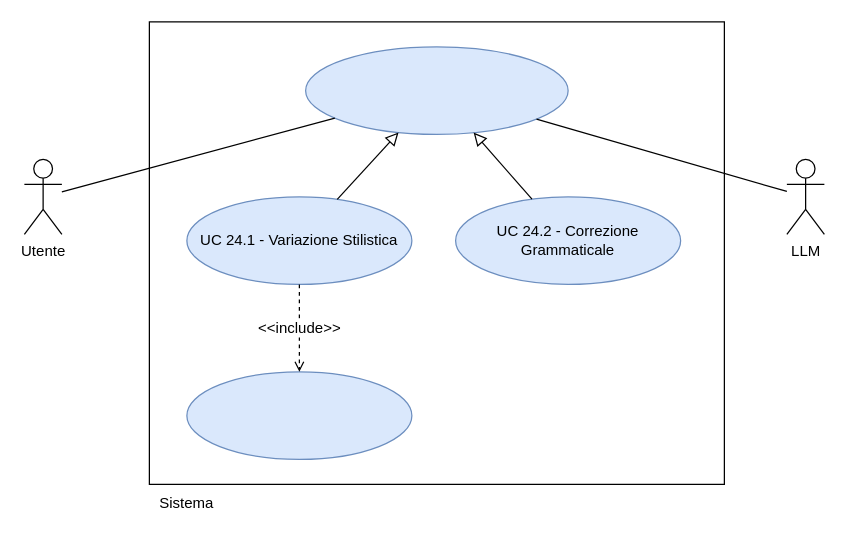
Some shapes in this 846 by 544 pixel diagram are drawn without their labels. The shapes that lost their labels are listed below. From the top down, each one's box as (x1, y1, x2, y2) in pixels, then its label:
(304, 46, 568, 134): UC 24 - Riscrittura contenuto Markdown
(186, 371, 412, 459): UC 24.1.1 - Selezione tipologia di stile
